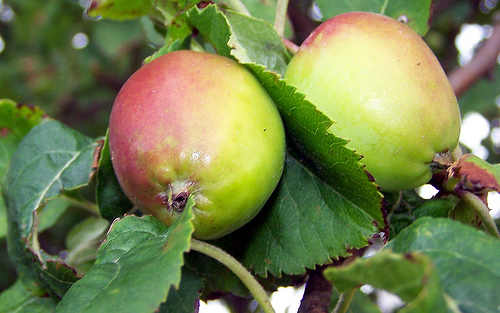apple: (276, 8, 467, 203), (107, 46, 292, 245)
